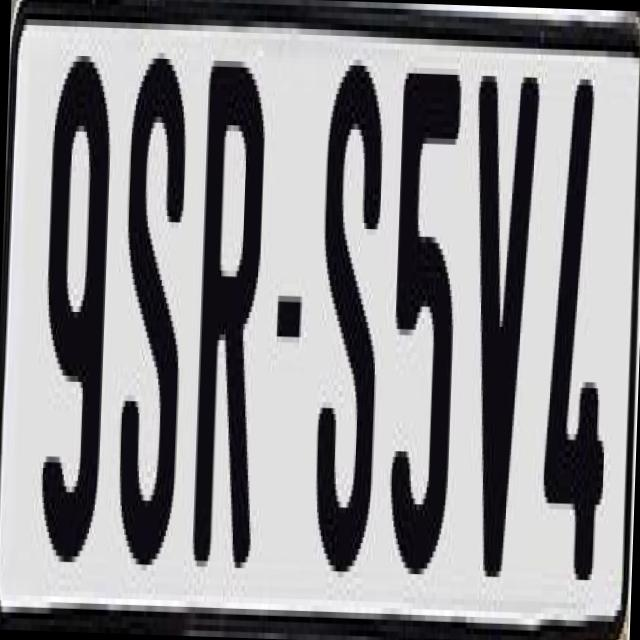4: (536, 67, 618, 598)
5: (383, 66, 460, 574)
9: (35, 55, 116, 598)
R: (187, 48, 264, 568)
S: (110, 57, 190, 594), (312, 47, 387, 560)
V: (460, 64, 540, 566)
